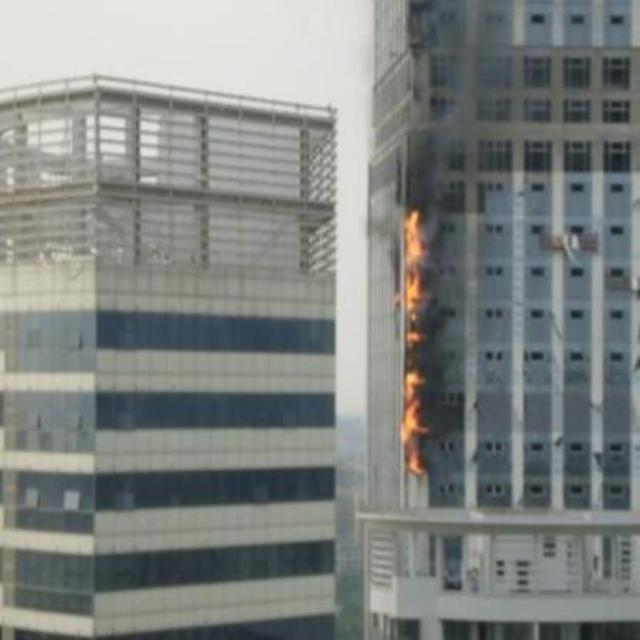Fire: (398, 211, 427, 474)
